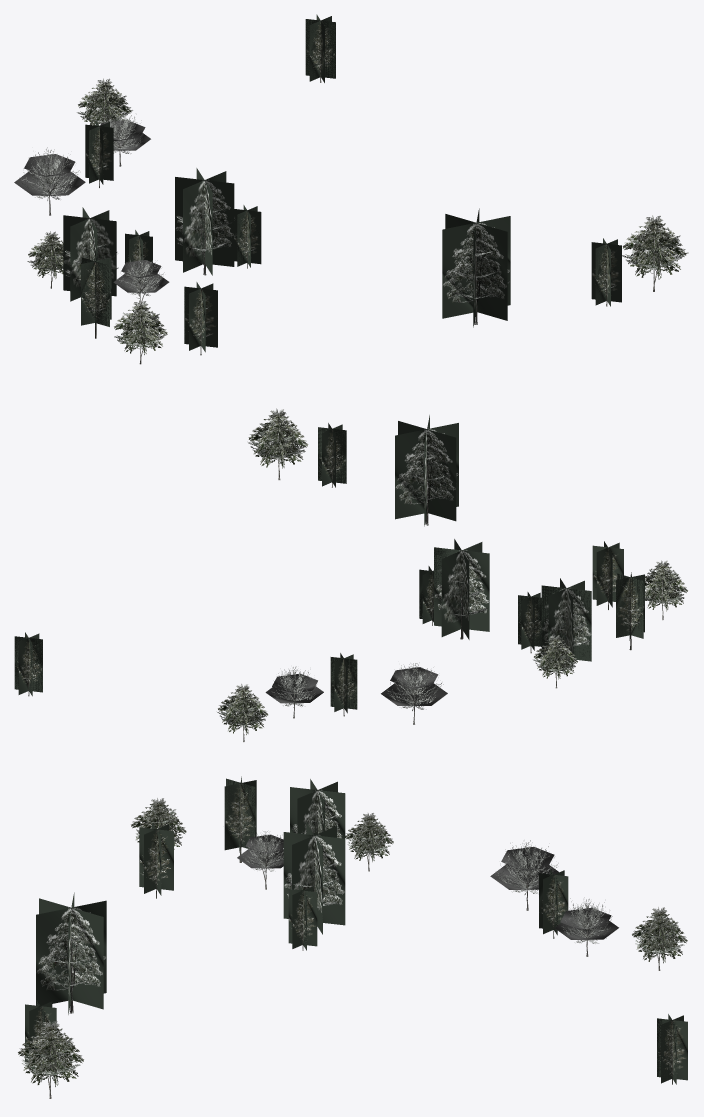
3 views of the same model, one above another, from view 1: azimuth 30°, elevation 25°; view 2: azimuth 150°, elevation 25°; view 3: azimuth 270°, elevation 25° (orthographic). The views are drawn at different scales.
Parts seen in each view (by area): view 1: mesh2, mesh1, mesh0, mesh7, mesh3, mesh4, mesh6; view 2: mesh2, mesh1, mesh0, mesh7, mesh3, mesh4; view 3: mesh2, mesh1, mesh0, mesh7, mesh3, mesh4.
Part boxes in pixels (x1,y1,x2,y2): mesh2: [63, 168, 510, 327]; mesh1: [81, 14, 621, 352]; mesh0: [28, 78, 686, 354]; mesh7: [14, 120, 169, 292]; mesh3: [19, 110, 164, 296]; mesh4: [27, 93, 688, 347]; mesh6: [65, 208, 510, 298]; mesh2: [395, 415, 591, 668]; mesh1: [14, 423, 644, 713]; mesh0: [218, 408, 687, 734]; mesh7: [265, 667, 447, 705]; mesh3: [271, 662, 443, 710]; mesh4: [217, 421, 684, 725]; mesh2: [36, 779, 345, 1014]; mesh1: [25, 776, 687, 1084]; mesh0: [18, 798, 687, 1086]; mesh7: [237, 834, 618, 939]; mesh3: [242, 831, 612, 944]; mesh4: [22, 808, 684, 1075].
Size of the model in its own units: 40.57 by 7.78 by 43.63.
